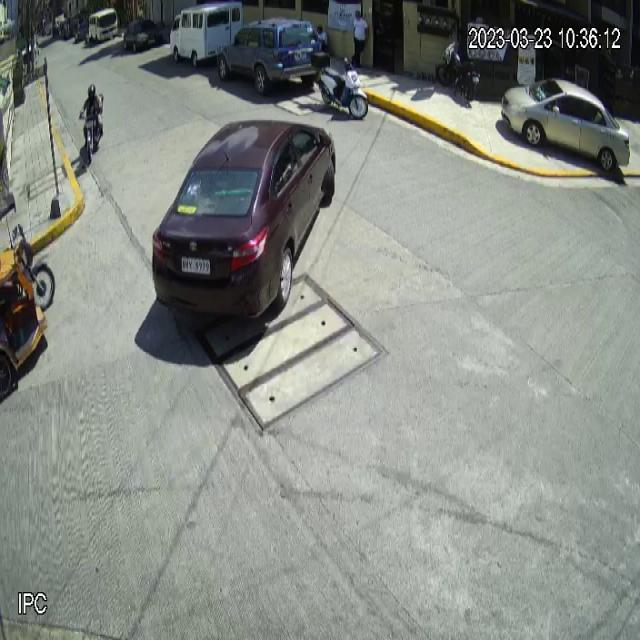Car: (150, 117, 337, 323), (500, 76, 631, 175), (216, 16, 321, 85)
Motorcycle: (310, 49, 370, 121), (79, 111, 103, 166)
Tricycle: (0, 191, 59, 404)
Van: (168, 0, 244, 68)
